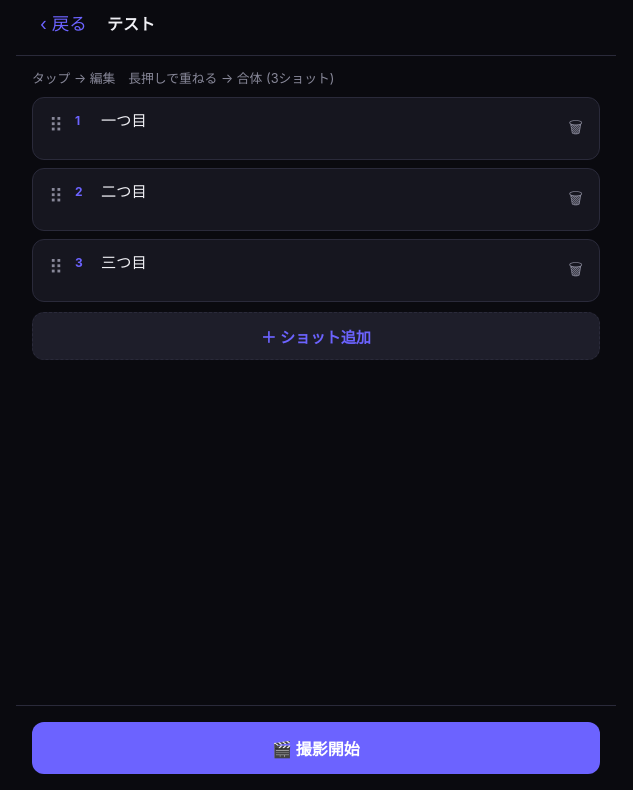
Test: ShotEditPage delete › drops the undo once something else changes
The image size is (633, 790).
Click the button named "削除". click: (576, 130)
box: [565,112,587,147]
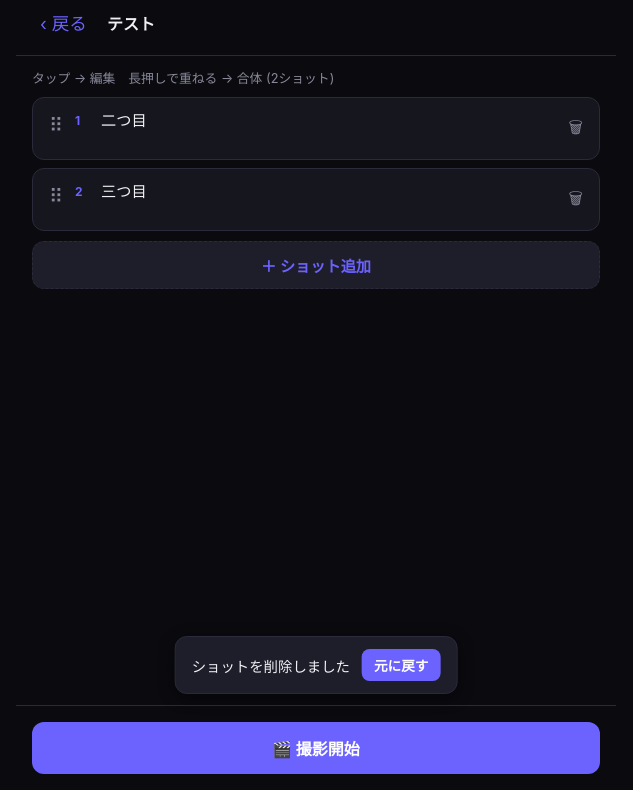
Click the button "＋ ショット追加". click: (316, 265)
box: [32,241,600,289]
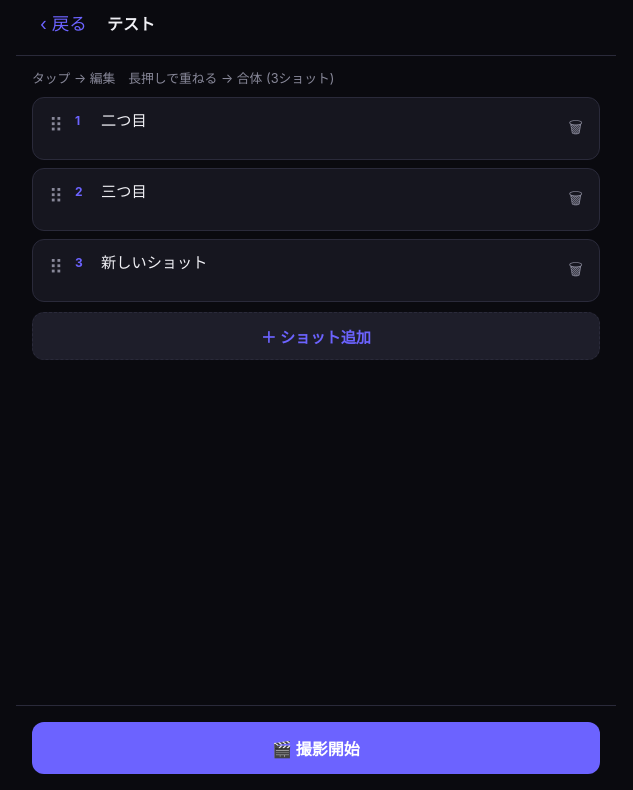
Now the button "元に戻す" is gone
